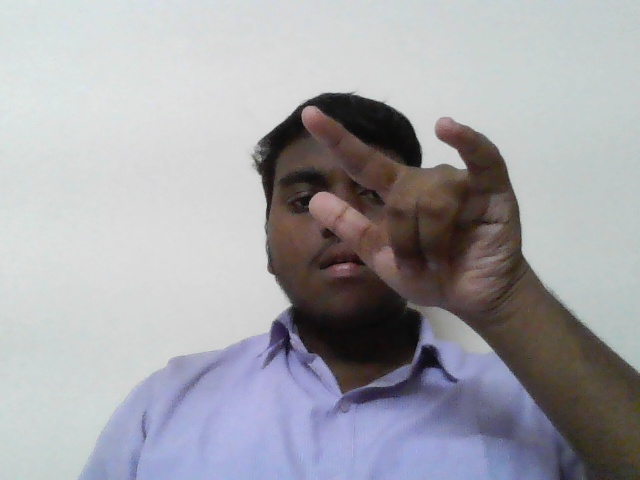I love you: (298, 97, 538, 323)
